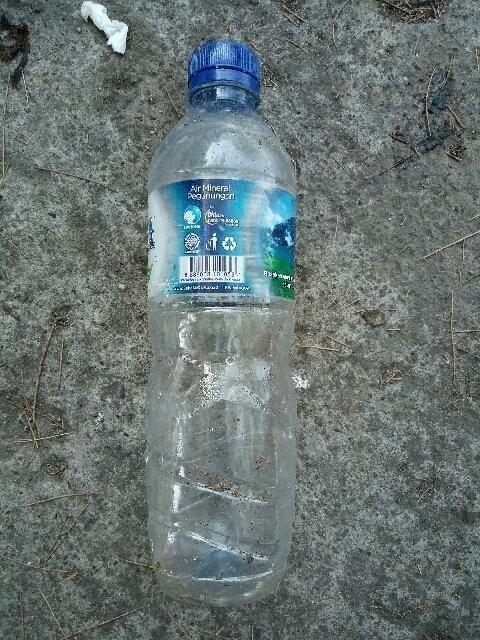bottle-plastic: (136, 35, 306, 615)
